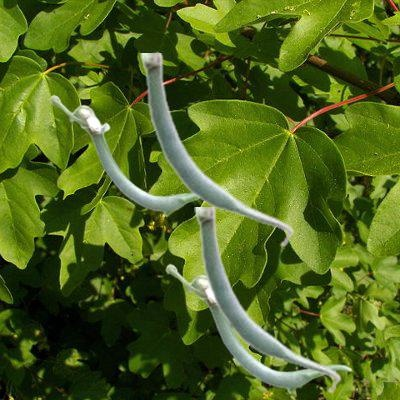french_bean: (140, 53, 293, 247), (194, 207, 340, 393), (165, 263, 351, 393), (49, 94, 198, 216)
